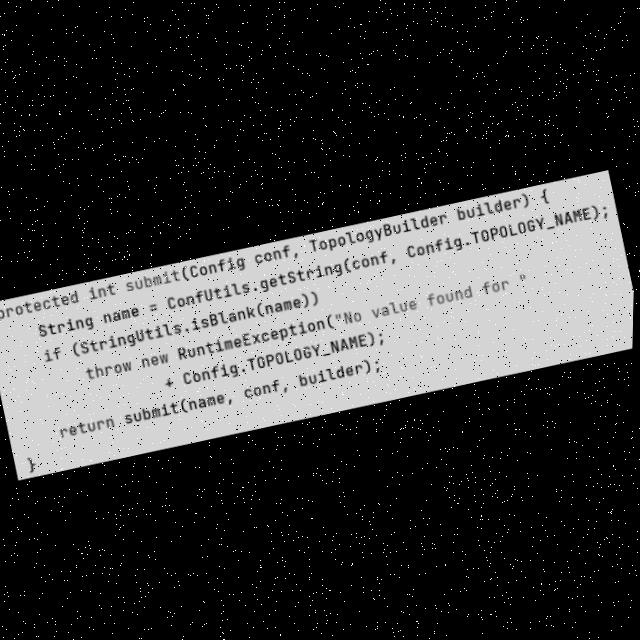code_screen: (0, 171, 634, 479)
